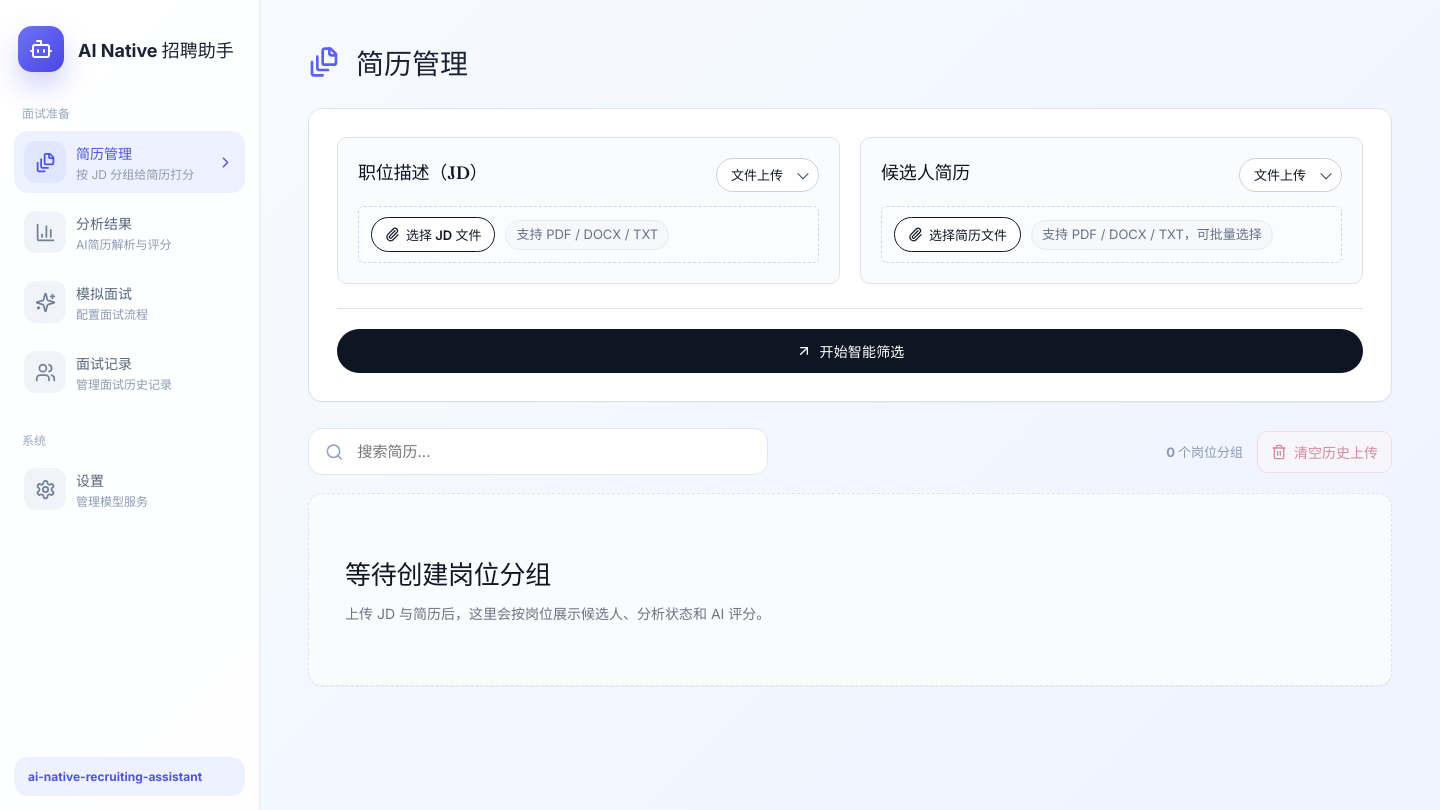
Test: App › renders the upload workspace instead of a landing page
Expected: the heading "简历管理" is shown, [356,42,468,82]
Expected: the button "开始智能筛选" is shown, [337,329,1363,373]
Select "文本输入" in the dropdown labelled "职位描述（JD）" at {"x": 768, "y": 175}, box [716,158,819,192]
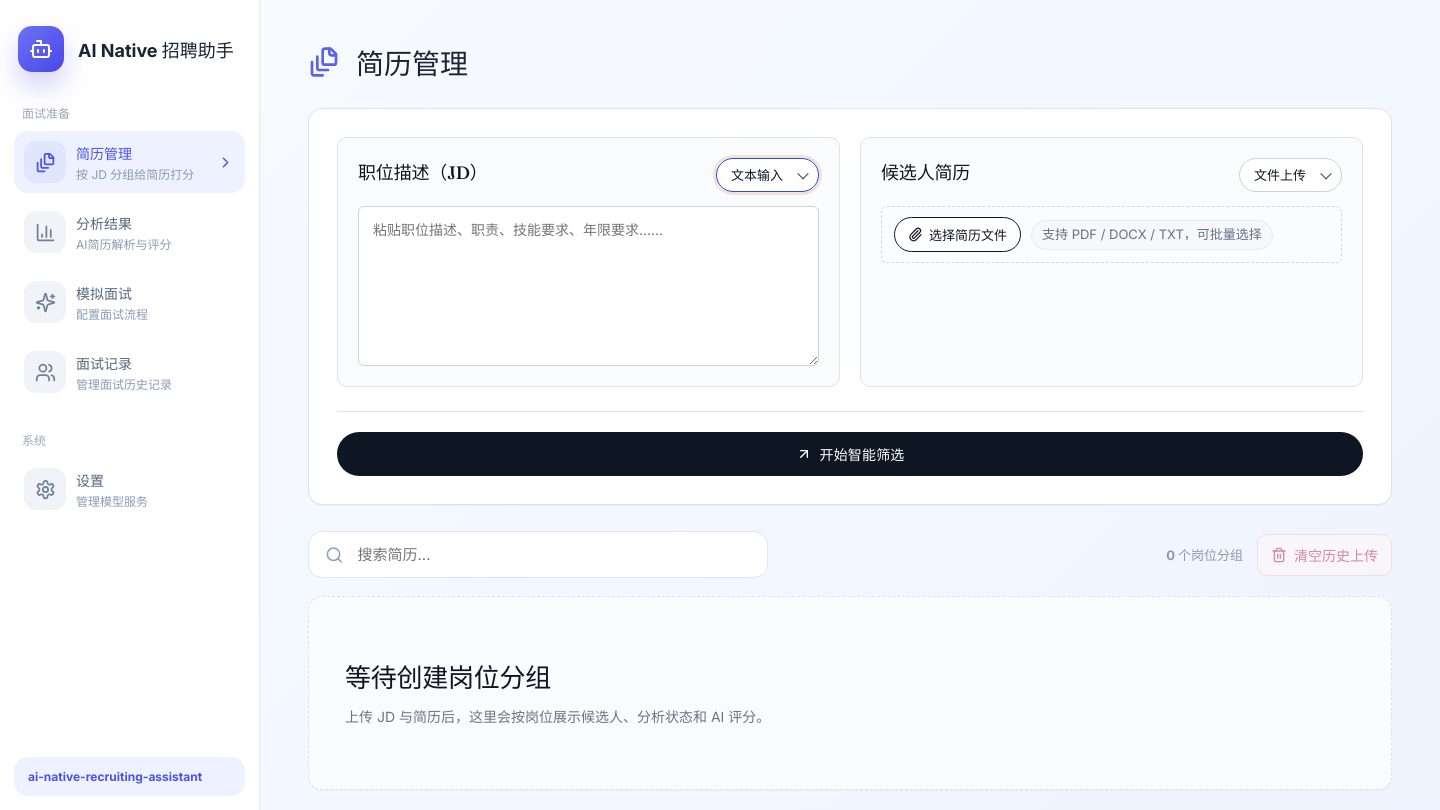
Select "文本输入" in the dropdown labelled "候选人简历" at {"x": 1290, "y": 175}, box [1239,158,1342,192]
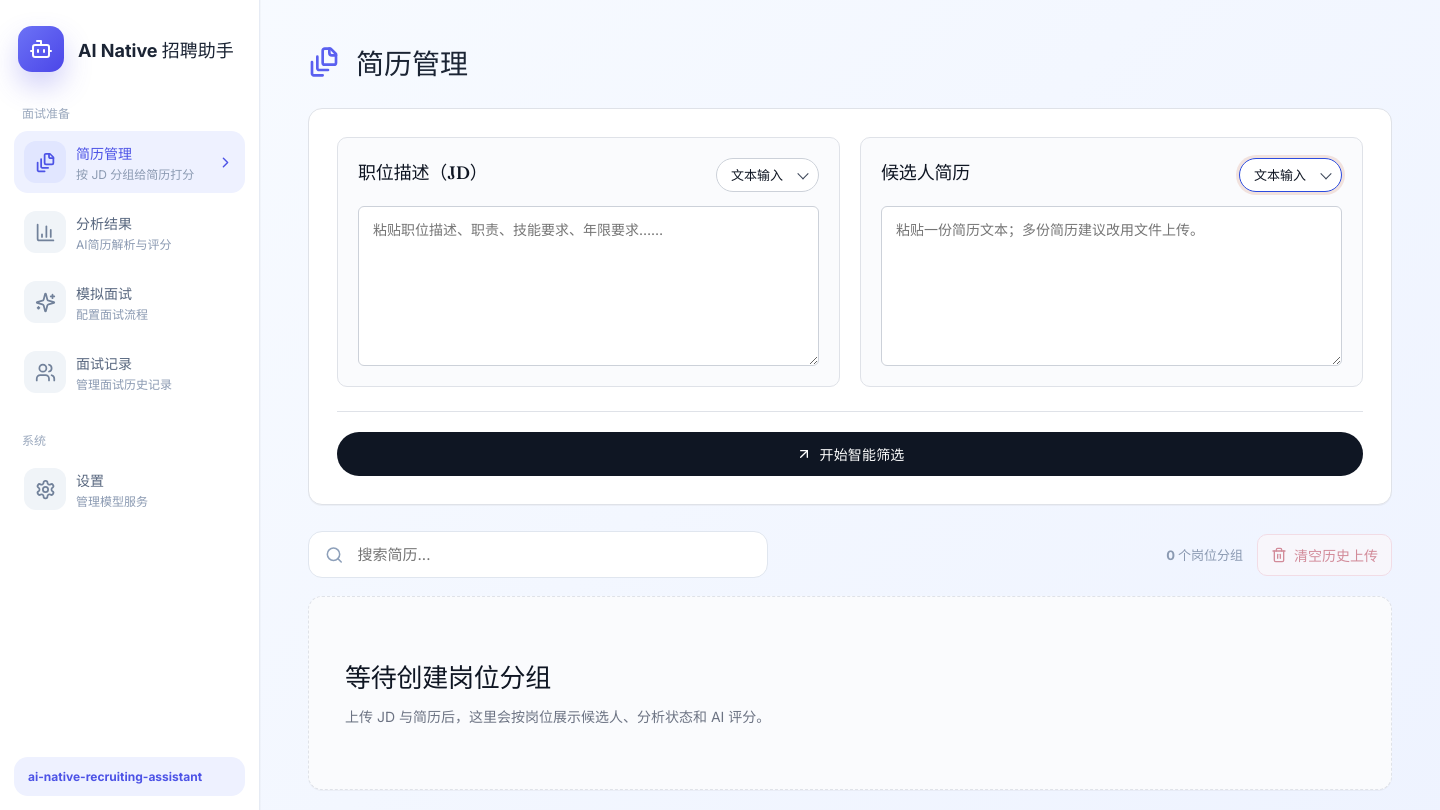
Expected: the text box named "JD 文本兜底" is shown, [358,206,819,366]
Expected: the text box named "简历文本兜底" is shown, [881,206,1342,366]
